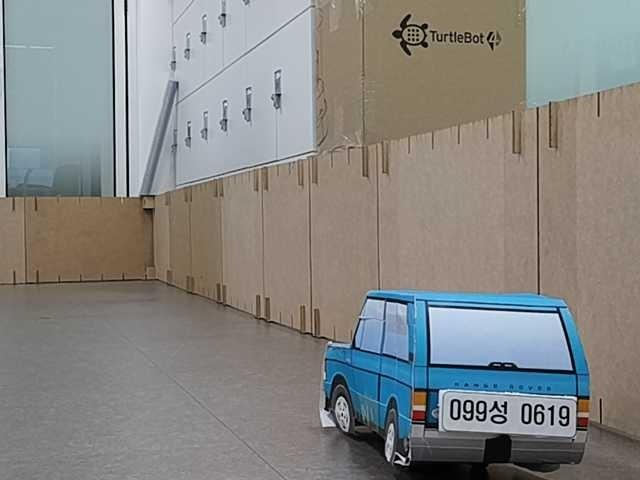car: (321, 291, 590, 464)
id: (437, 388, 576, 438)
